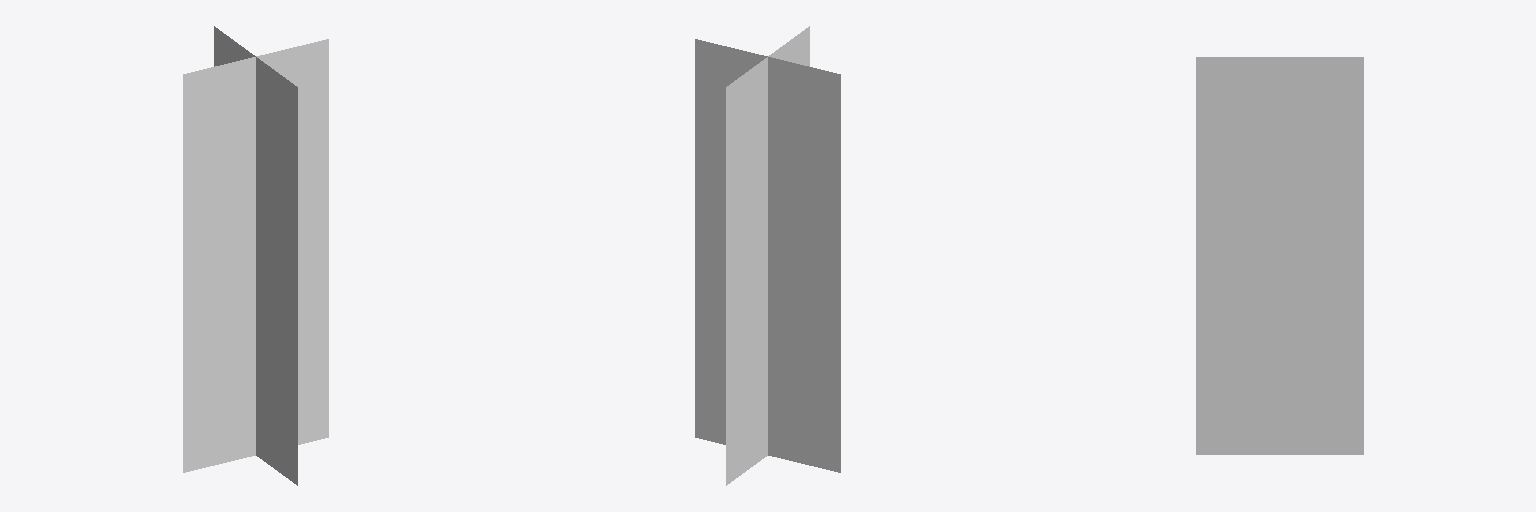
Rendered from European_Larch_Fan_0.obj.
The picture shows the model from 3 angles: view 1: azimuth 30°, elevation 25°; view 2: azimuth 150°, elevation 25°; view 3: azimuth 270°, elevation 25°; orthographic projection.
Parts seen in each view (by area): view 1: CreateFan; view 2: CreateFan; view 3: CreateFan.
Part boxes in pixels (left/top/right/bottom): CreateFan: left=183, top=26, right=328, bottom=485; CreateFan: left=695, top=26, right=840, bottom=485; CreateFan: left=1196, top=57, right=1363, bottom=454.
Size of the model in its own units: 11.47 by 30 by 11.47.